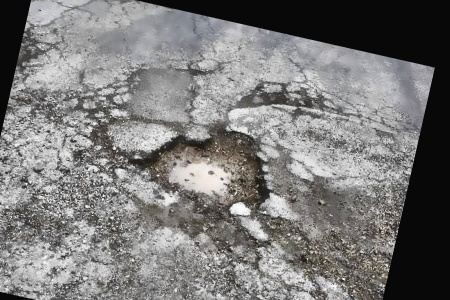pothole: (123, 104, 287, 228)
